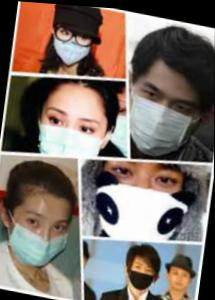NONE: (169, 265, 193, 291)
OK: (92, 154, 185, 250), (128, 76, 201, 158), (37, 102, 109, 173), (52, 21, 93, 64), (124, 256, 158, 291)
WRONG: (6, 203, 72, 272)
